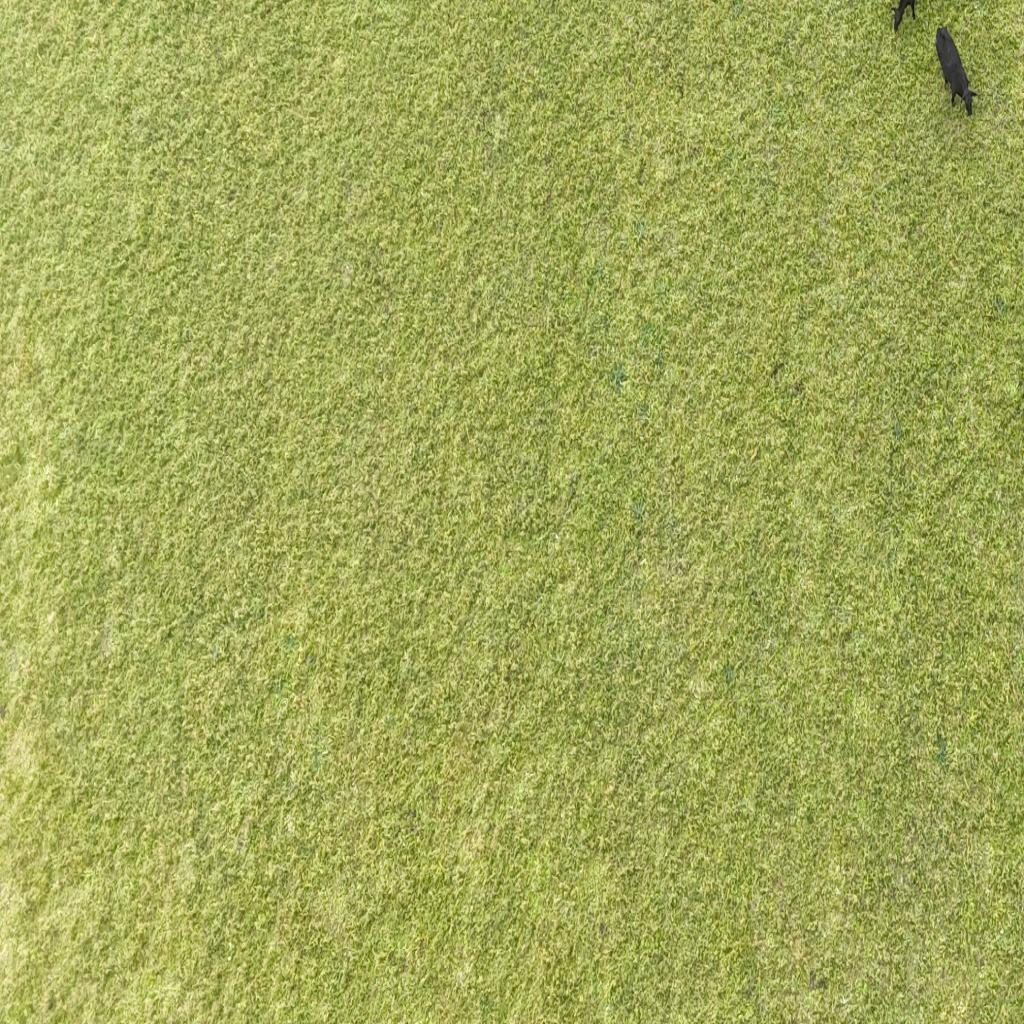cow: (933, 21, 980, 121), (890, 0, 919, 37)
